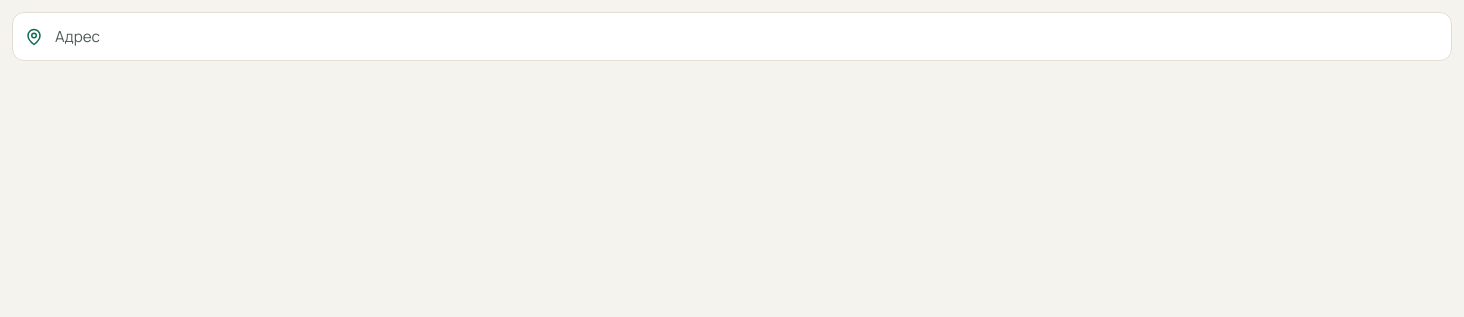
Test: AddressInput accessibility › closes suggestions with Escape
The image size is (1464, 317).
Type "Ала" into the dropdown labelled "Адрес". click: [732, 36]
box: left=12, top=12, right=1452, bottom=61
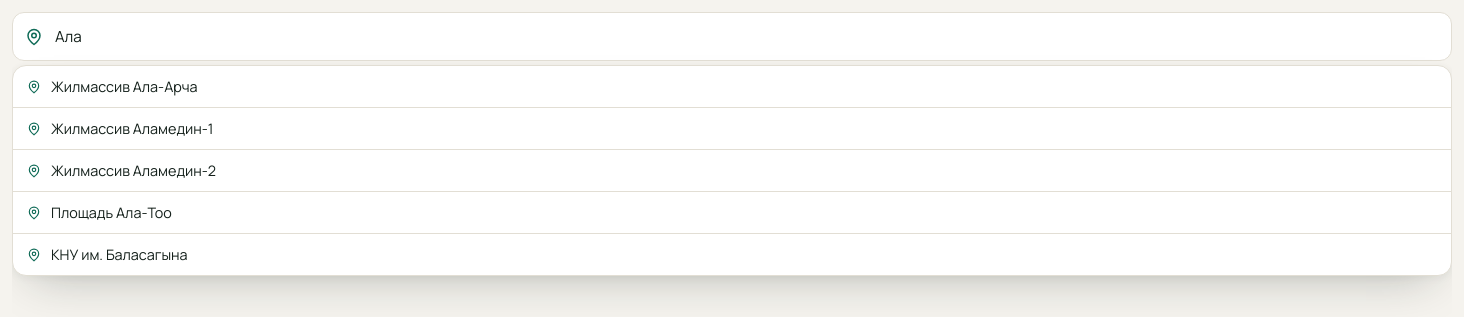
Check: the list is shown
Press Escape in the dropdown named "Адрес", box left=12, top=12, right=1452, bottom=61
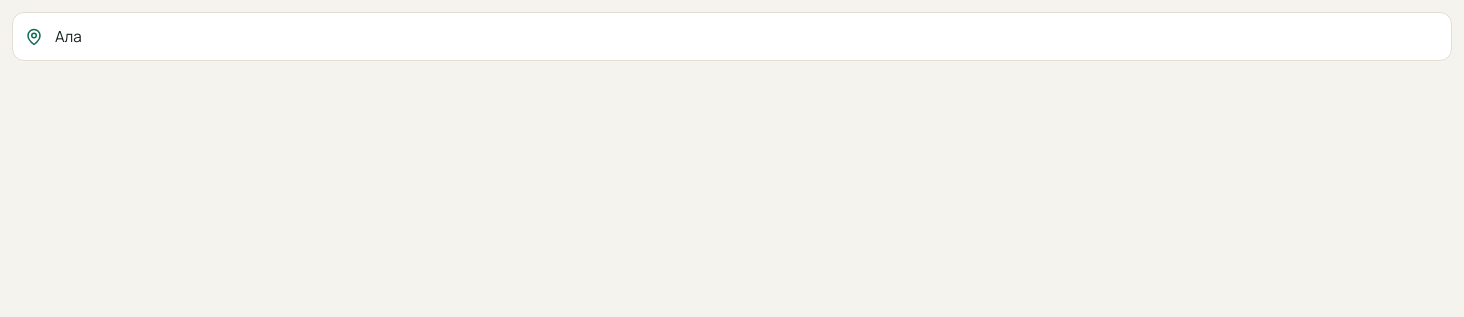
Check: the list is gone
